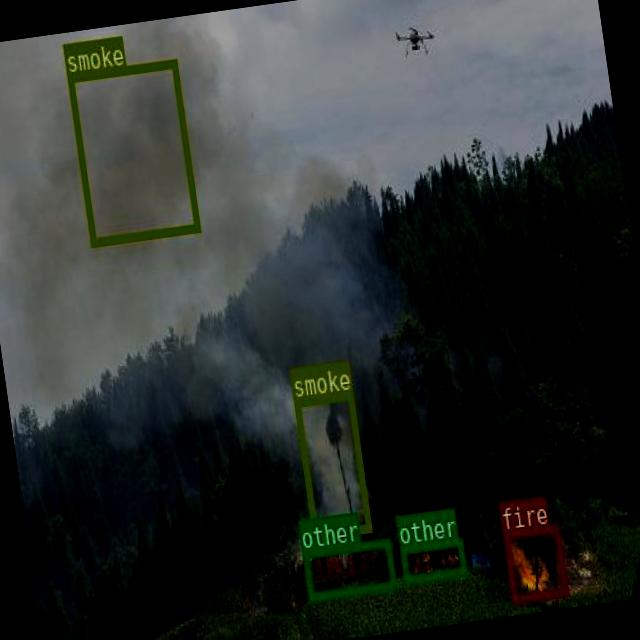fire: (502, 524, 568, 602)
smoke: (66, 58, 200, 246), (292, 390, 370, 540)
